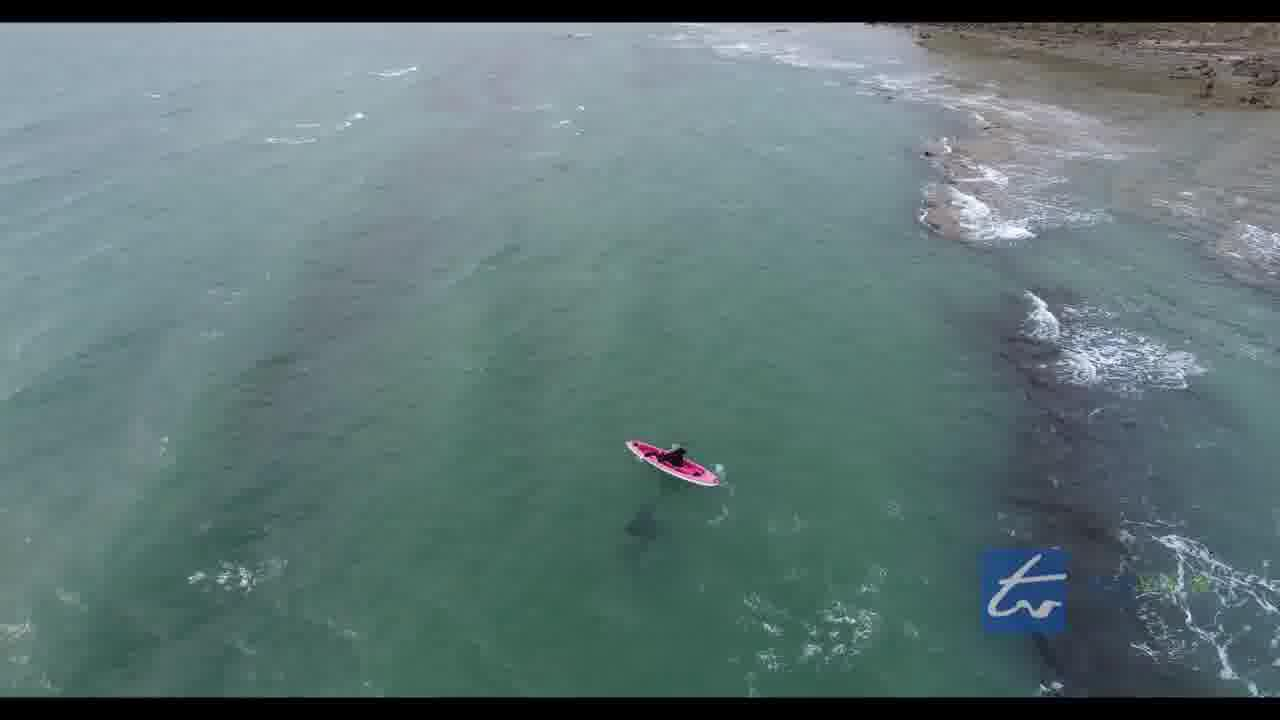human: (664, 435, 687, 468)
